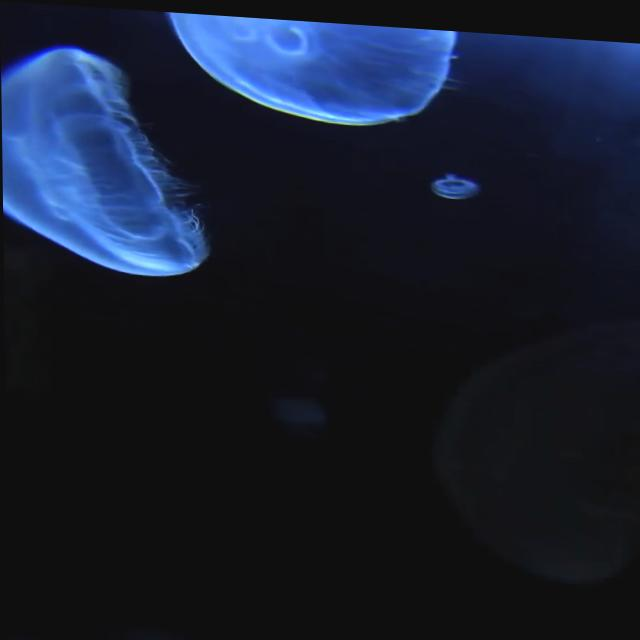Moon-jellyfish: (1, 44, 208, 275), (163, 9, 457, 121), (428, 163, 482, 193)
